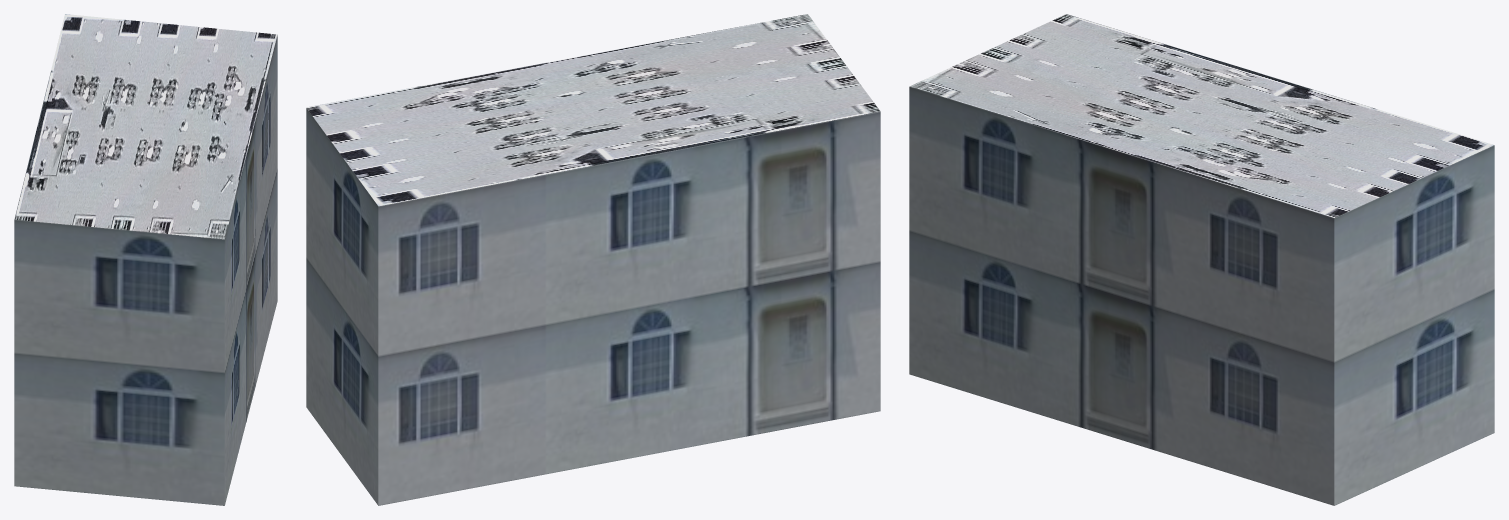
File: ResTex__208.fbx
3 views of the same model, side by side, from view 1: azimuth 30°, elevation 25°; view 2: azimuth 150°, elevation 25°; view 3: azimuth 270°, elevation 25° (orthographic). The views are drawn at different scales.
Visible parts, largest first — view 1: CityEngineMaterial_17_m, CityEngineMaterial_4_m; view 2: CityEngineMaterial_17_m, CityEngineMaterial_4_m; view 3: CityEngineMaterial_17_m, CityEngineMaterial_4_m.
Boxes of the visible parts, left/top/right/bottom form: CityEngineMaterial_17_m: left=14, top=35, right=277, bottom=505; CityEngineMaterial_4_m: left=14, top=14, right=277, bottom=239; CityEngineMaterial_17_m: left=306, top=108, right=880, bottom=505; CityEngineMaterial_4_m: left=306, top=14, right=880, bottom=206; CityEngineMaterial_17_m: left=909, top=86, right=1494, bottom=505; CityEngineMaterial_4_m: left=910, top=14, right=1494, bottom=217.
Size of the model in its own units: 9.12 by 6 by 11.05.
Materials: 2 (2 with a texture image).
